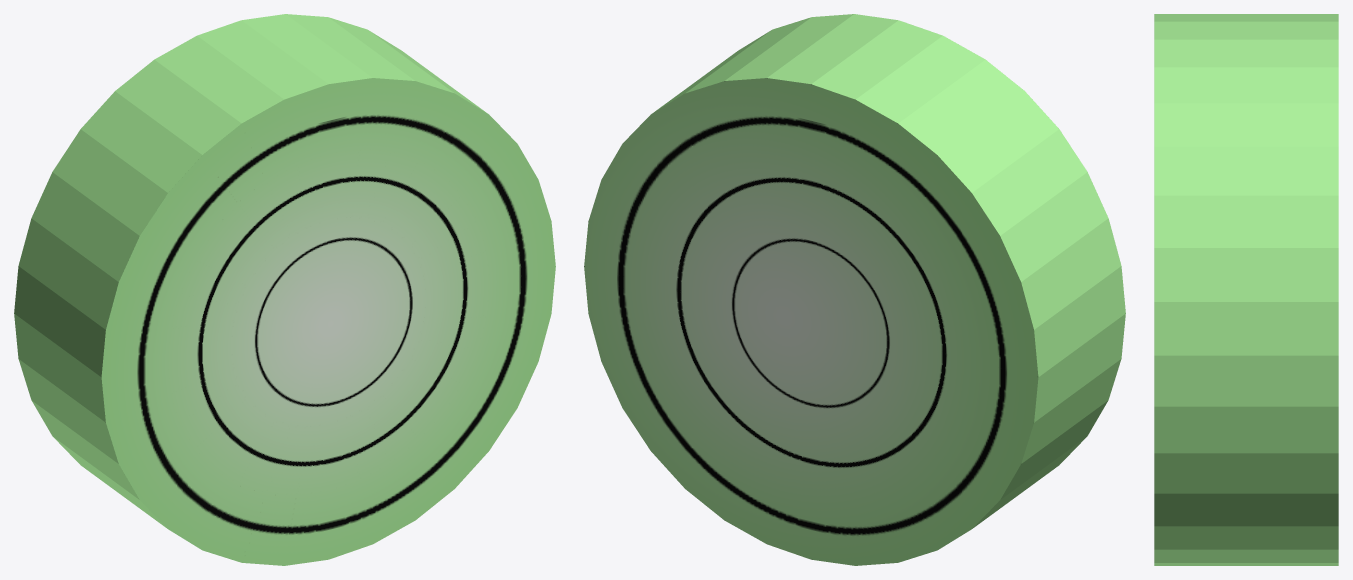
File: Onion.fbx
3 views of the same model, side by side, from view 1: azimuth 30°, elevation 25°; view 2: azimuth 150°, elevation 25°; view 3: azimuth 270°, elevation 25° (orthographic). The views are drawn at different scales.
Visible parts, largest first — view 1: Leek; view 2: Leek; view 3: Leek.
Boxes of the visible parts, bbox=[...] form: Leek: bbox=[14, 14, 555, 565]; Leek: bbox=[584, 14, 1125, 565]; Leek: bbox=[1154, 14, 1338, 565].
Size of the model in its own units: 2400 by 2400 by 800.
